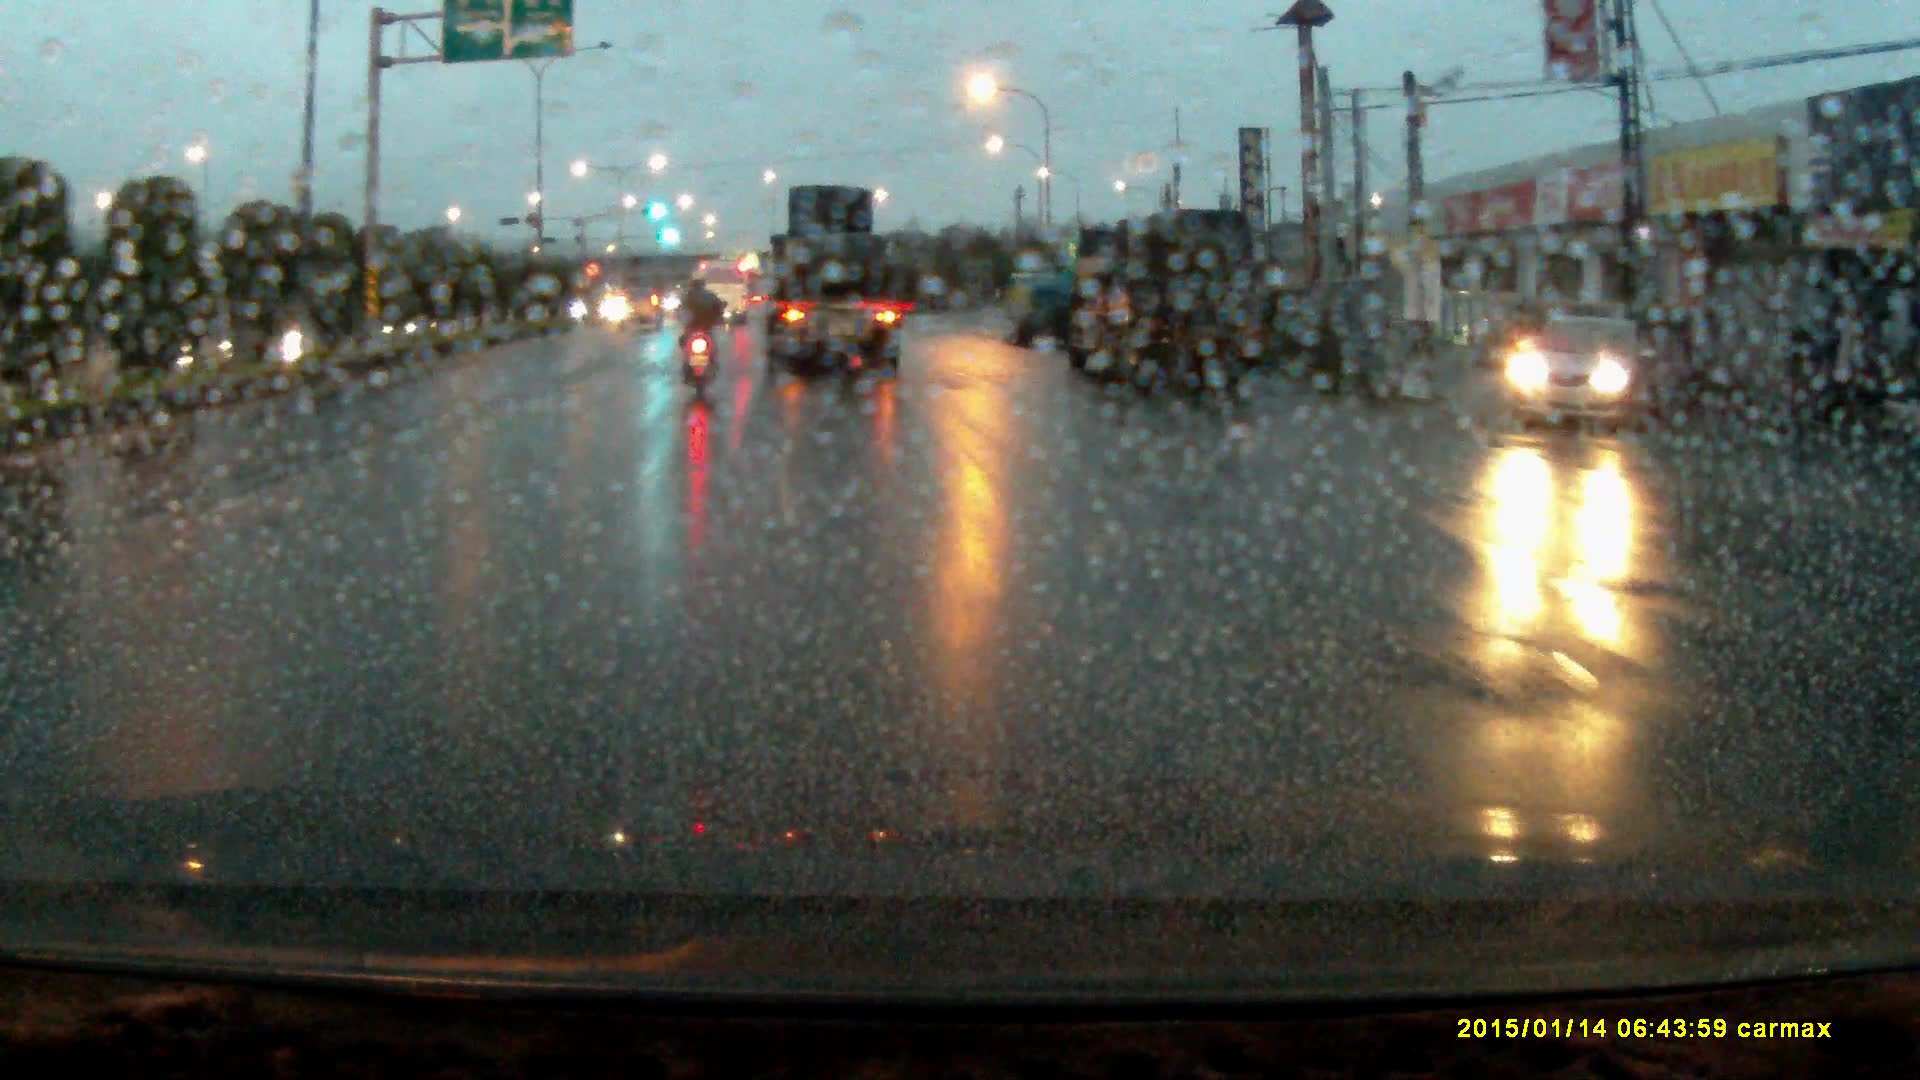rider: (672, 270, 729, 403)
vehicle: (1068, 206, 1265, 403), (765, 191, 904, 382), (1493, 308, 1688, 431), (1003, 272, 1080, 350), (699, 260, 748, 325), (611, 288, 663, 336)
